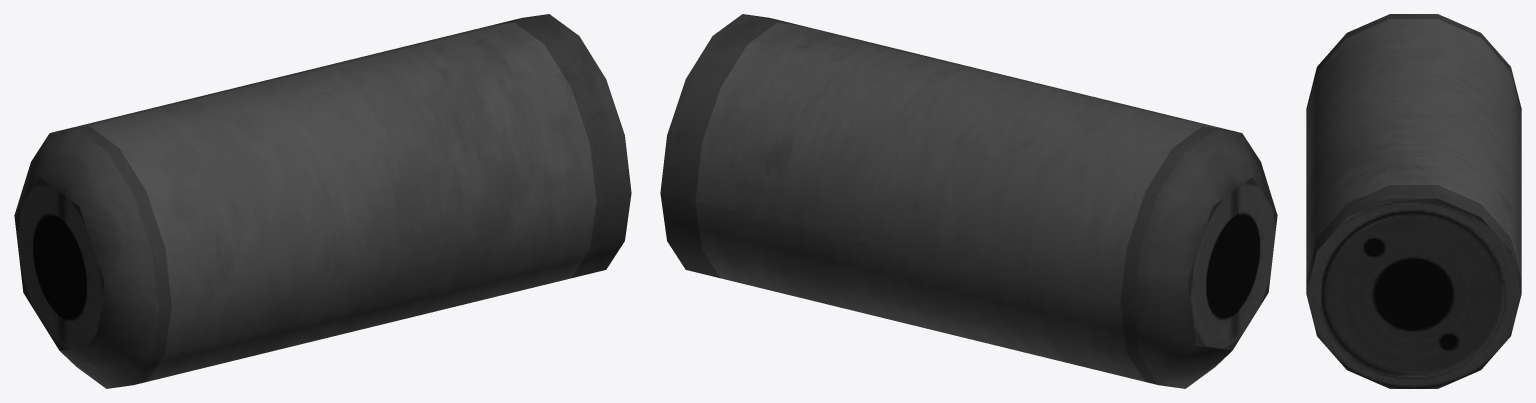
Rendered from t6_attach_shotgun_silencer1_world_LOD0.obj.
3 views of the same model, side by side, from view 1: azimuth 30°, elevation 25°; view 2: azimuth 150°, elevation 25°; view 3: azimuth 270°, elevation 25° (orthographic). The views are drawn at different scales.
Parts seen in each view (by area): view 1: mtl_t6_attach_shotgun_silencer1; view 2: mtl_t6_attach_shotgun_silencer1; view 3: mtl_t6_attach_shotgun_silencer1.
Boxes of the visible parts, x1,y1,x2,y2 form: mtl_t6_attach_shotgun_silencer1: [14, 14, 631, 388]; mtl_t6_attach_shotgun_silencer1: [660, 14, 1277, 388]; mtl_t6_attach_shotgun_silencer1: [1306, 14, 1521, 388].
Bounding box in the file's own units: 12.42 × 5.59 × 5.73.
